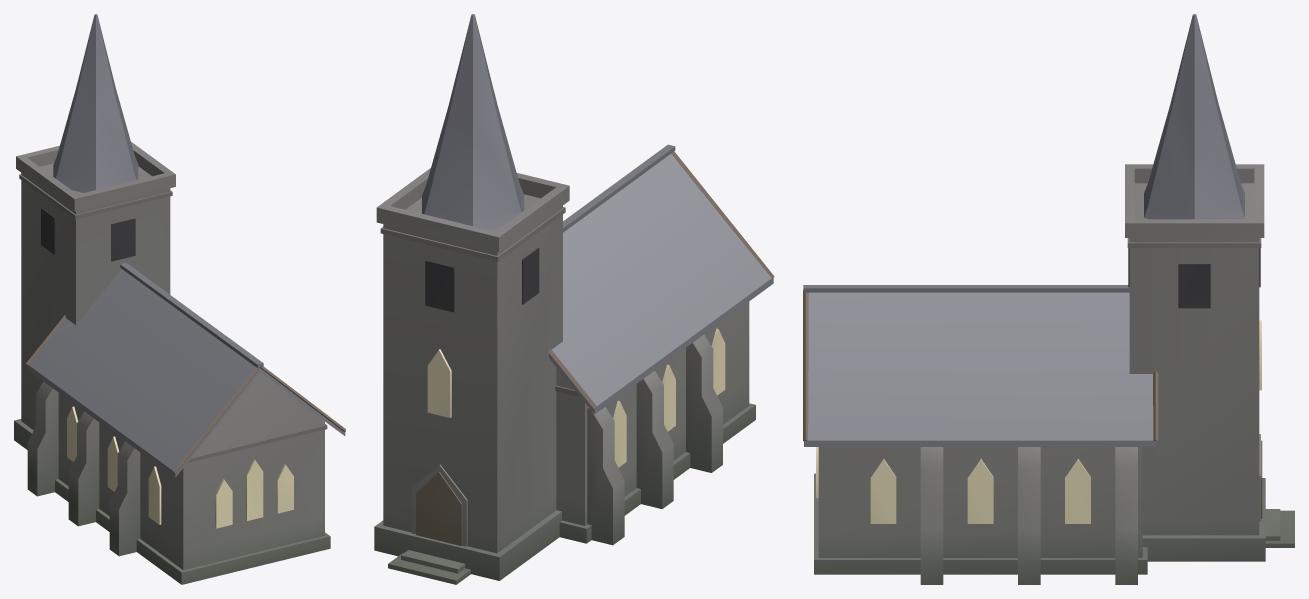
The model's file is chapel.gltf.
3 renders of one model, left to right at view 1: azimuth 30°, elevation 25°; view 2: azimuth 150°, elevation 25°; view 3: azimuth 270°, elevation 25°, orthographic. The views are drawn at different scales.
Parts seen in each view (by area): view 1: Body; view 2: Body; view 3: Body.
Part boxes in pixels (box(x1,y1,x2,y2)): Body: box(14, 14, 345, 584); Body: box(374, 14, 774, 584); Body: box(803, 14, 1294, 584).
Size of the model in its own units: 7.8 by 17.6 by 15.18.
